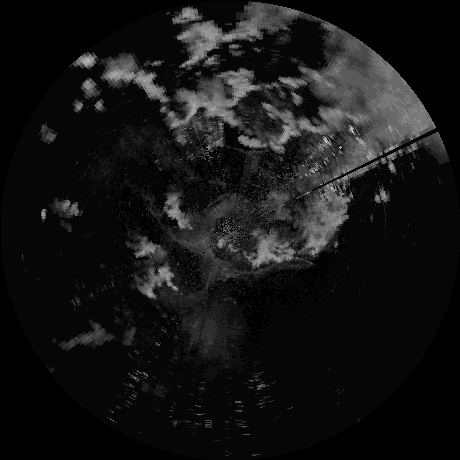frontgust: (145, 203, 186, 244), (232, 261, 283, 279), (229, 142, 267, 155)
